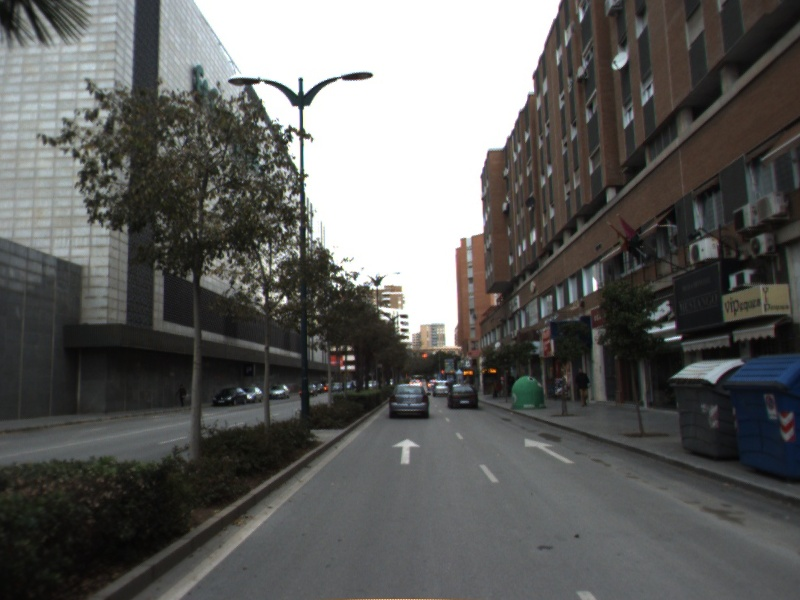STRAIGHT: (522, 436, 577, 465), (390, 436, 423, 466)
